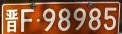F: (21, 9, 34, 32)
